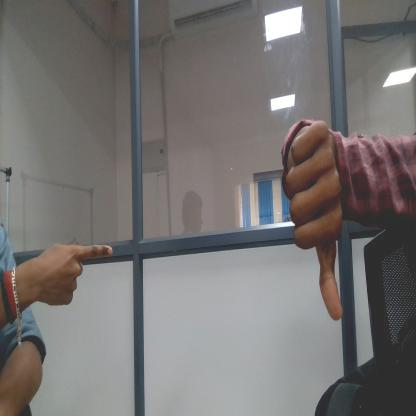Left: (41, 225, 118, 314)
Thumbs Down: (277, 119, 346, 336)
